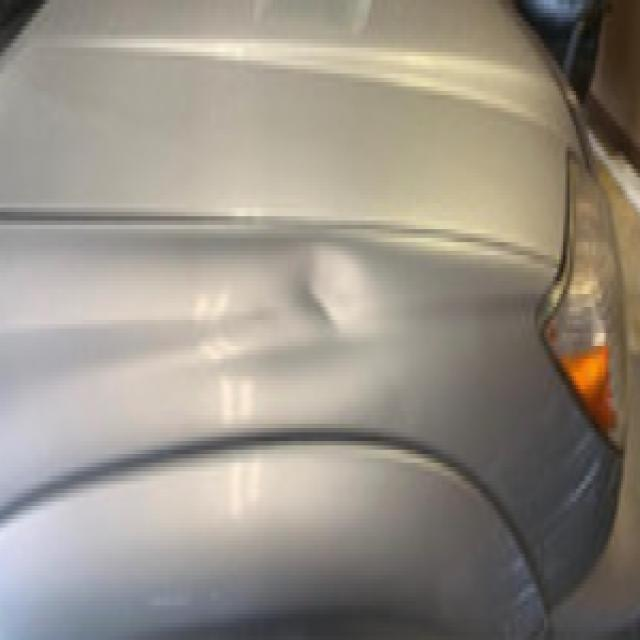dents: (286, 254, 374, 352)
